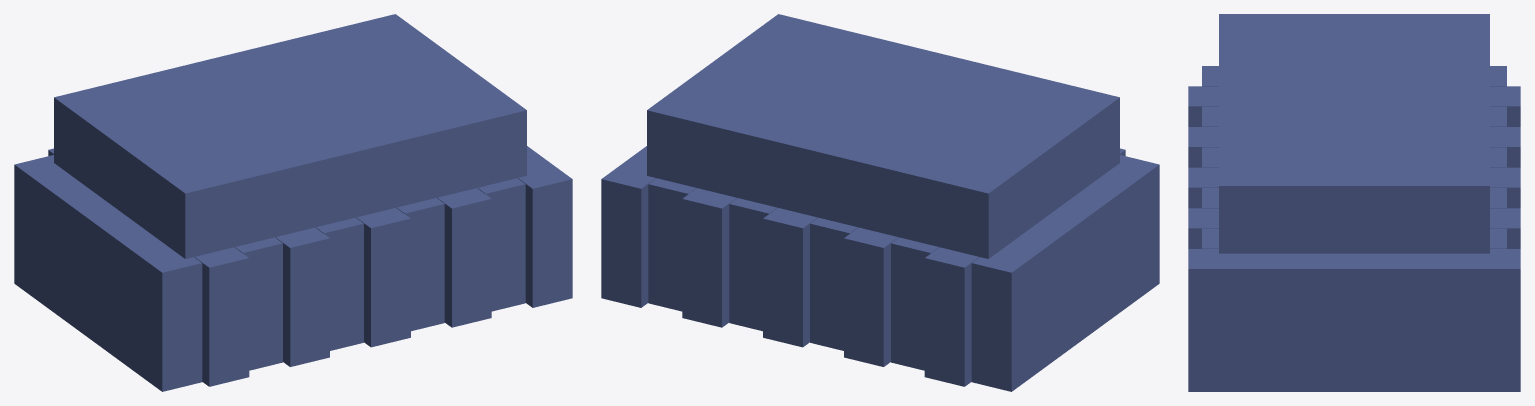
The model's file is sailor_saia.glb.
The picture shows the model from 3 angles, left to right: view 1: azimuth 30°, elevation 25°; view 2: azimuth 150°, elevation 25°; view 3: azimuth 270°, elevation 25°; orthographic projection. The views are drawn at different scales.
Visible parts, largest first — view 1: sailor_saia; view 2: sailor_saia; view 3: sailor_saia.
Part boxes in pixels (box(x1,y1,x2,y2)): sailor_saia: box(14, 14, 572, 391); sailor_saia: box(601, 14, 1159, 391); sailor_saia: box(1188, 14, 1520, 391).
Bounding box in the file's own units: 0.709 × 0.31 × 0.49.
